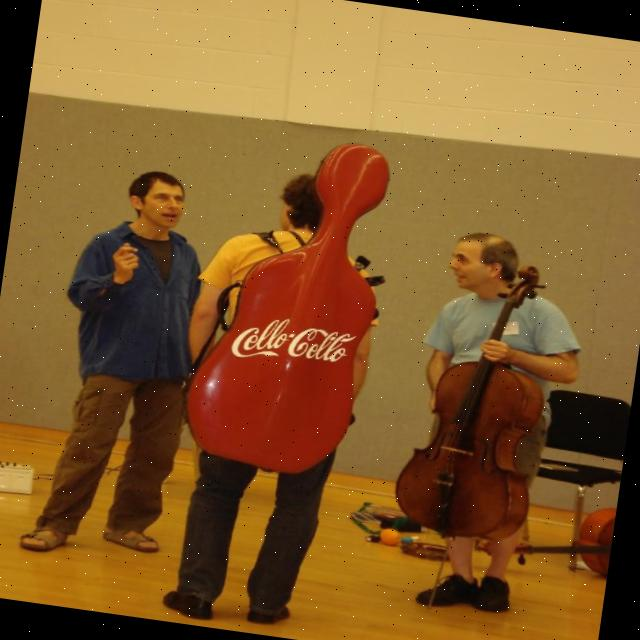cello: (382, 247, 588, 548)
